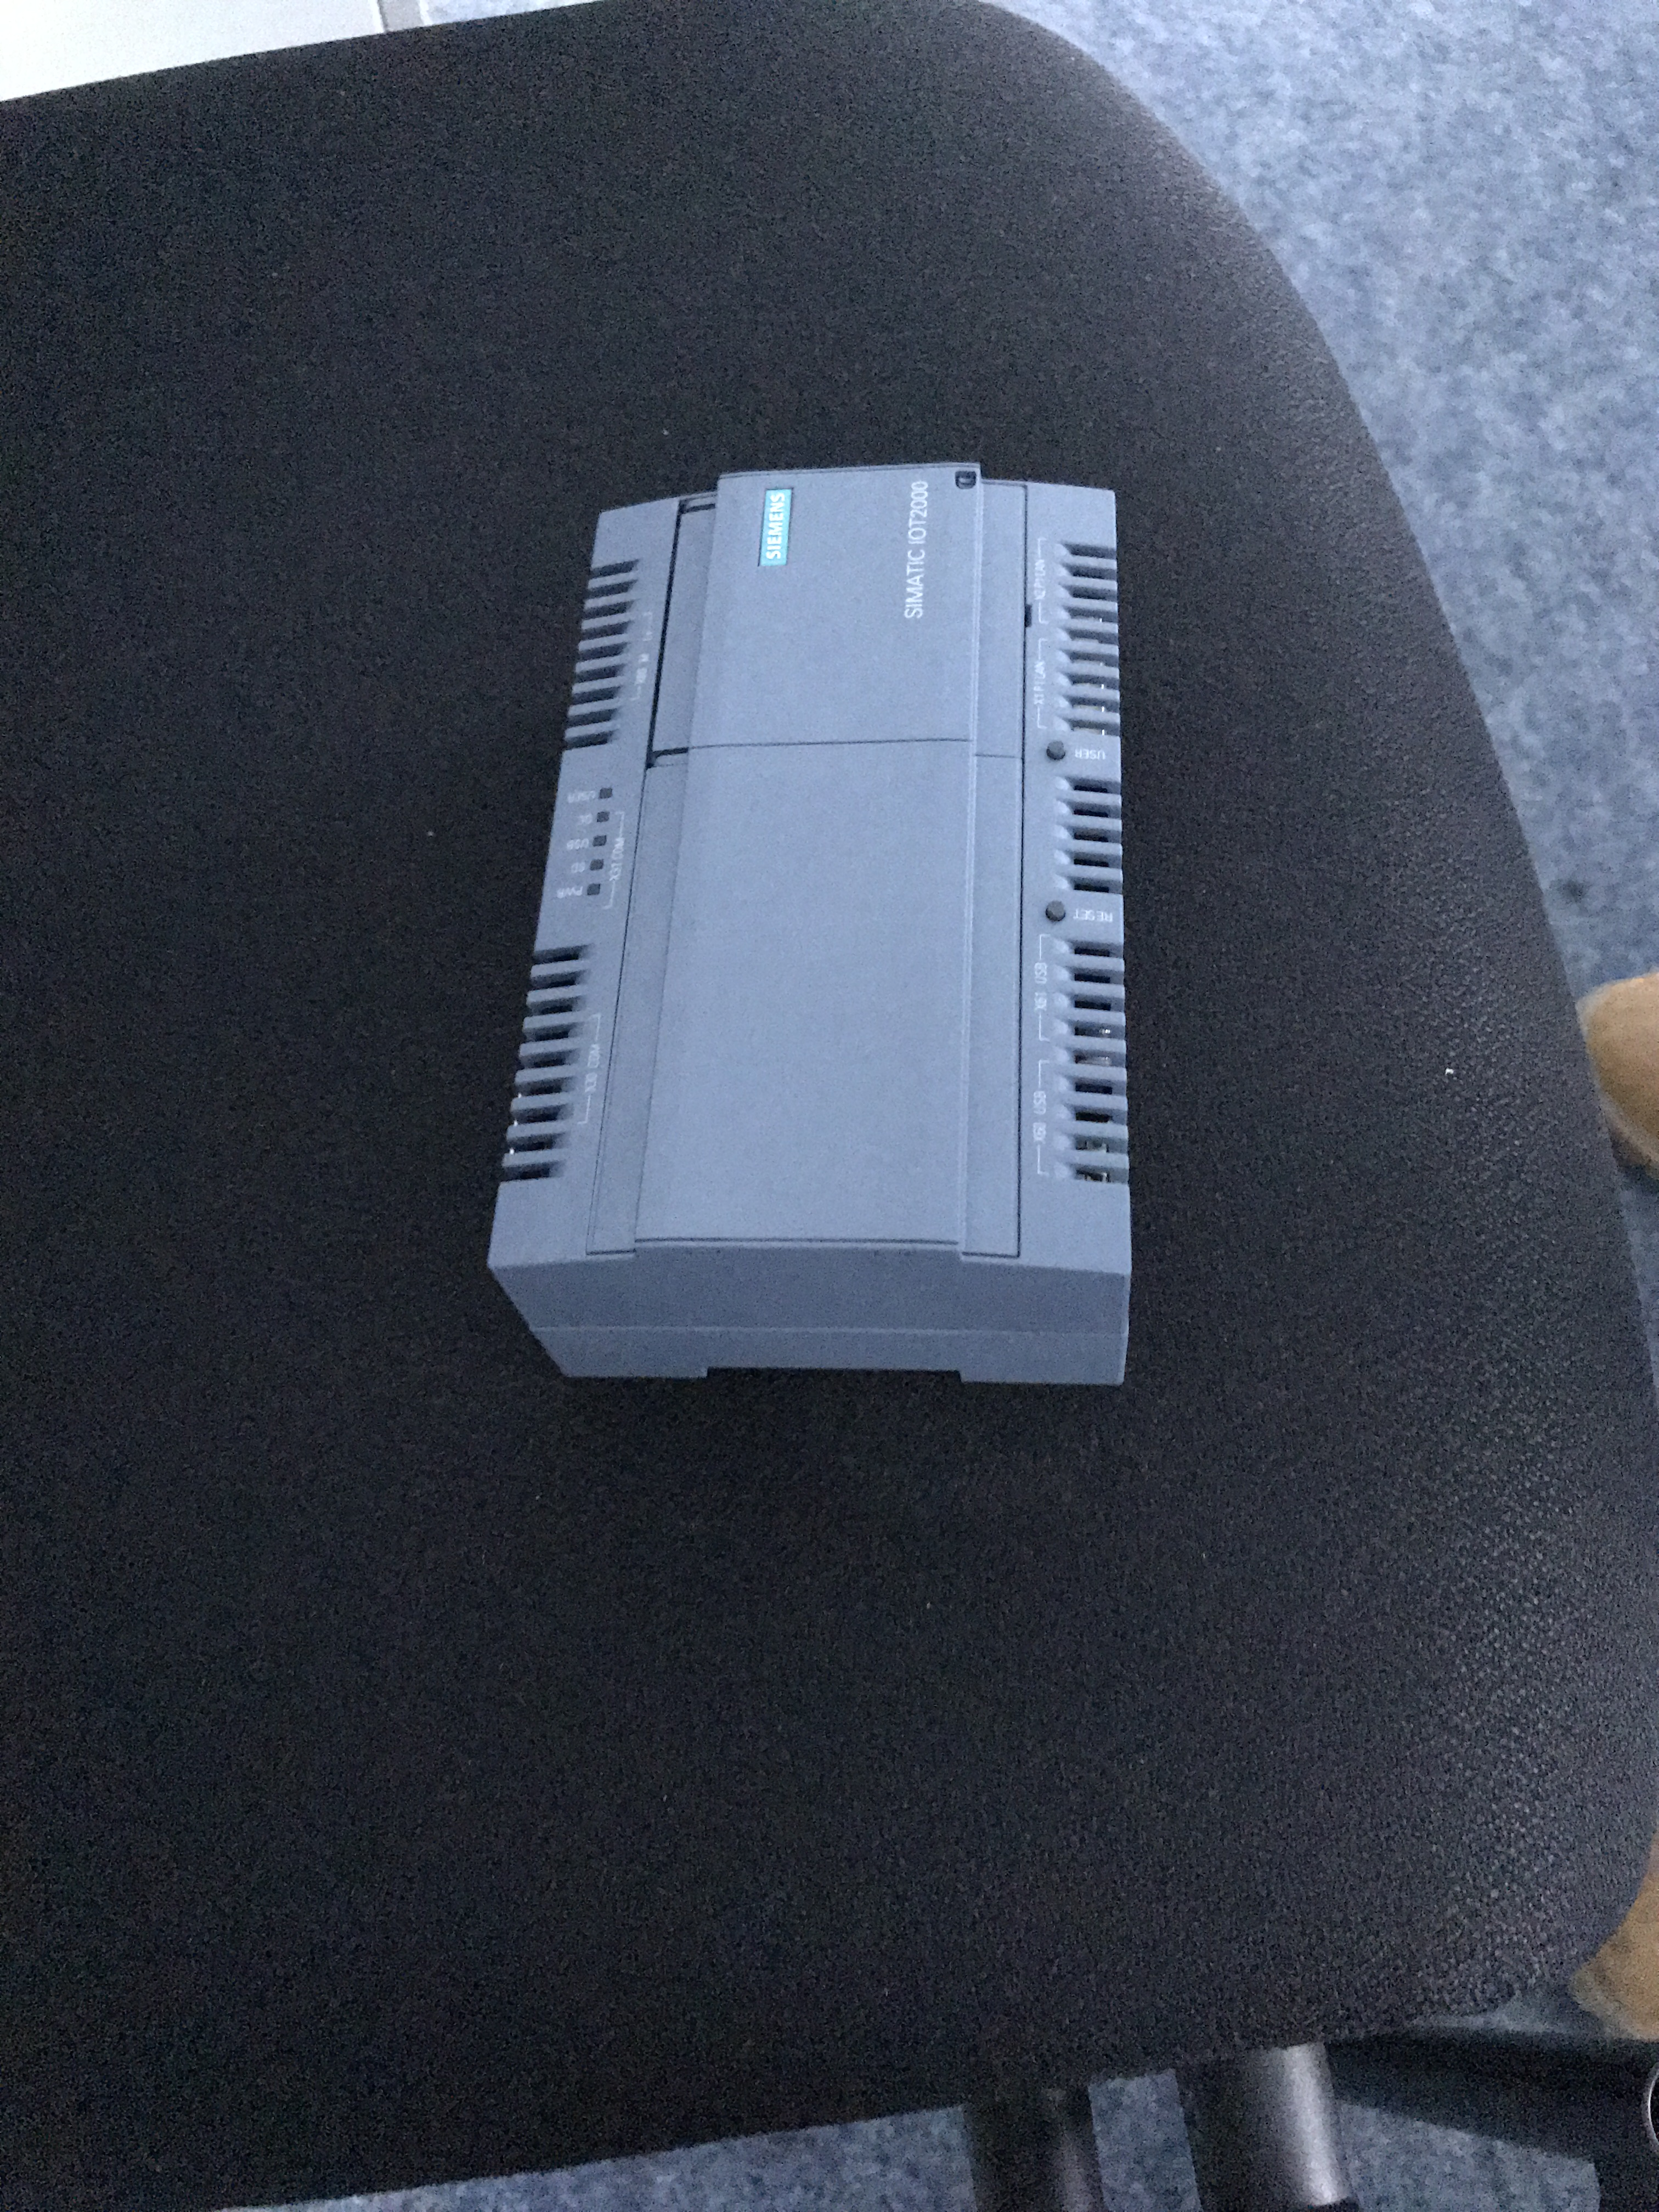device: (486, 462, 1134, 1388)
